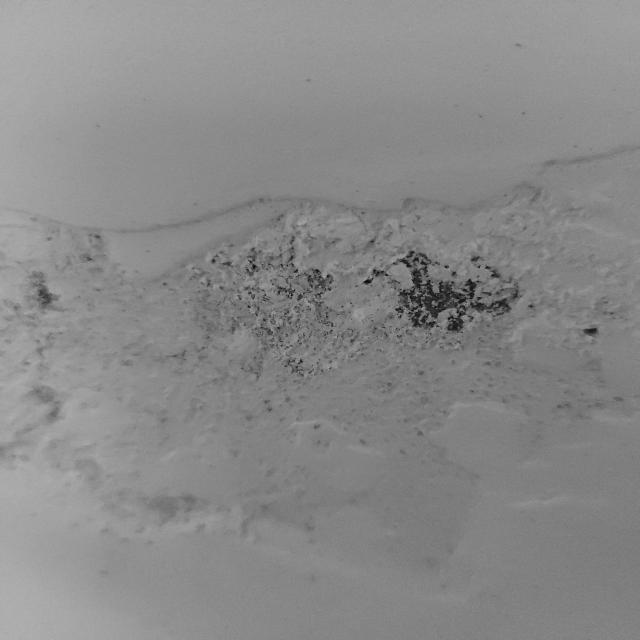rough and patchy surface: (0, 144, 640, 590)
